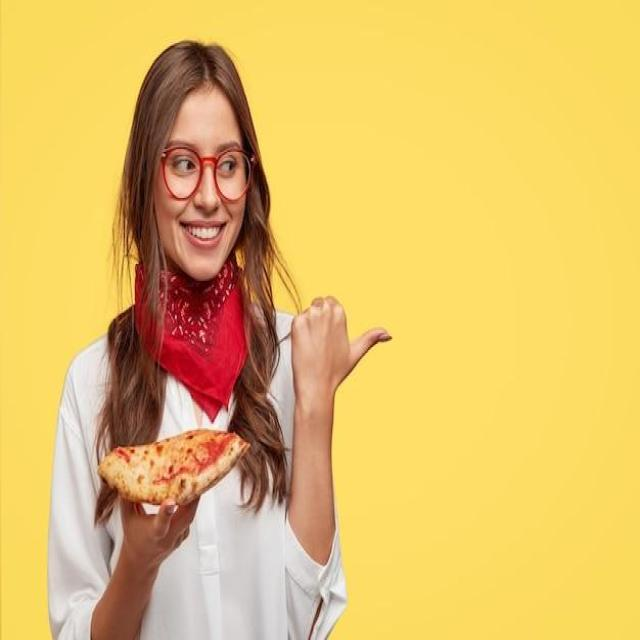pizza: (96, 427, 250, 504)
